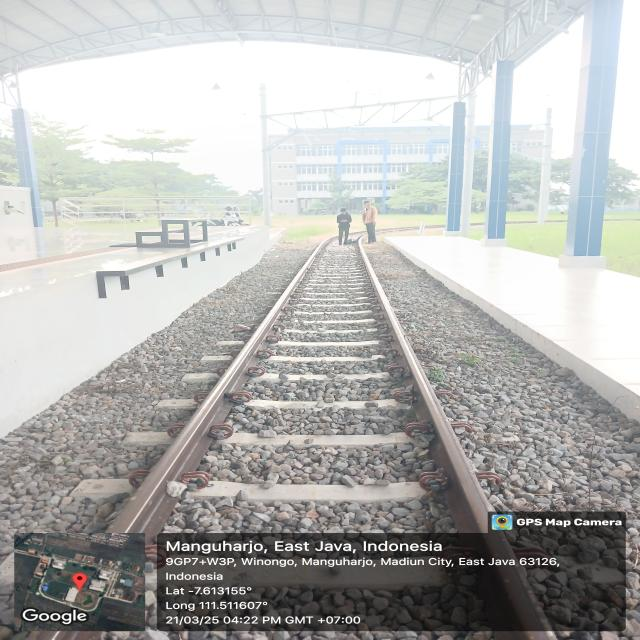rail-detection: (106, 273, 299, 545), (361, 251, 493, 533)
